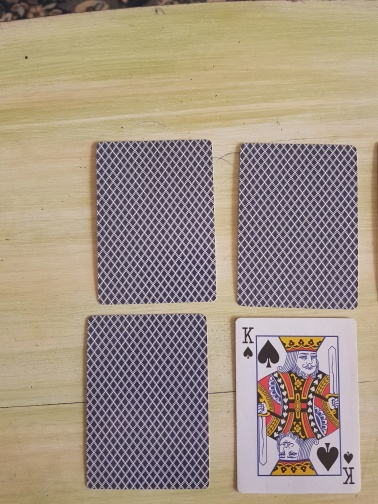king: (235, 317, 362, 495)
